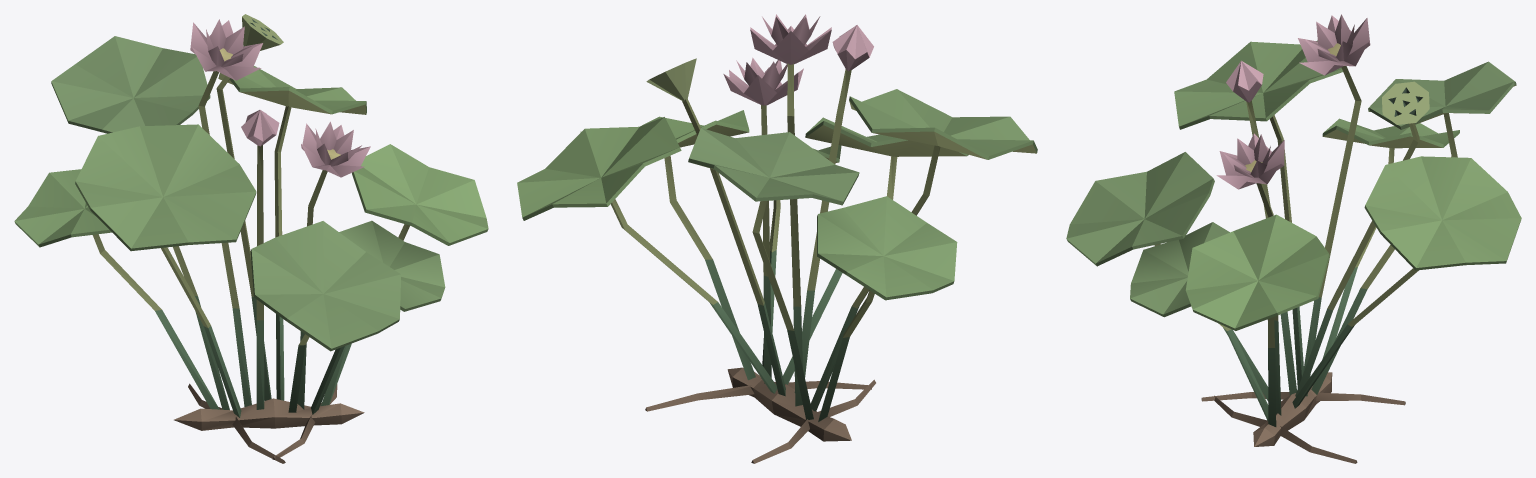
Rendered from lotus.glb.
3 views of the same model, side by side, from view 1: azimuth 30°, elevation 25°; view 2: azimuth 150°, elevation 25°; view 3: azimuth 270°, elevation 25° (orthographic). The views are drawn at different scales.
Parts seen in each view (by area): view 1: lotus; view 2: lotus; view 3: lotus.
Part boxes in pixels (x1,y1,x2,y2): lotus: [14, 14, 488, 463]; lotus: [517, 14, 1037, 463]; lotus: [1066, 14, 1521, 463].
Size of the model in its own units: 2.1 by 1.95 by 2.1.
